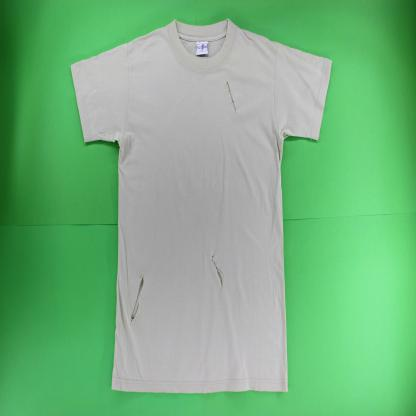hole: (129, 275, 145, 327), (209, 251, 225, 290), (224, 78, 239, 115)
